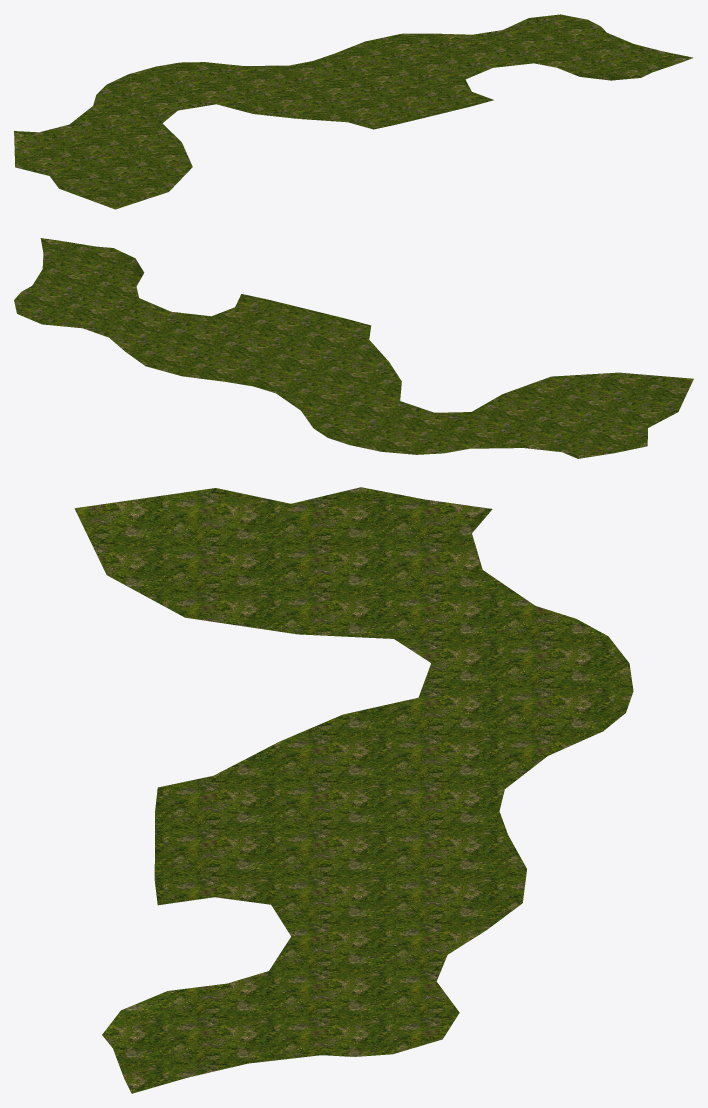
File: OVERHILL_A_01_LINE13.fbx
3 renders of one model, top to bottom at view 1: azimuth 30°, elevation 25°; view 2: azimuth 150°, elevation 25°; view 3: azimuth 270°, elevation 25°, orthographic. The views are drawn at different scales.
Visible parts, largest first — view 1: OVERHILL_A_01_LINE13; view 2: OVERHILL_A_01_LINE13; view 3: OVERHILL_A_01_LINE13.
Boxes of the visible parts, <box> form: OVERHILL_A_01_LINE13: <box>14,14,693,209</box>; OVERHILL_A_01_LINE13: <box>14,238,693,458</box>; OVERHILL_A_01_LINE13: <box>74,487,633,1093</box>.
Bounding box in the file's own units: 257445 × 1826 × 100287.
Materials: 1 (1 with a texture image).
